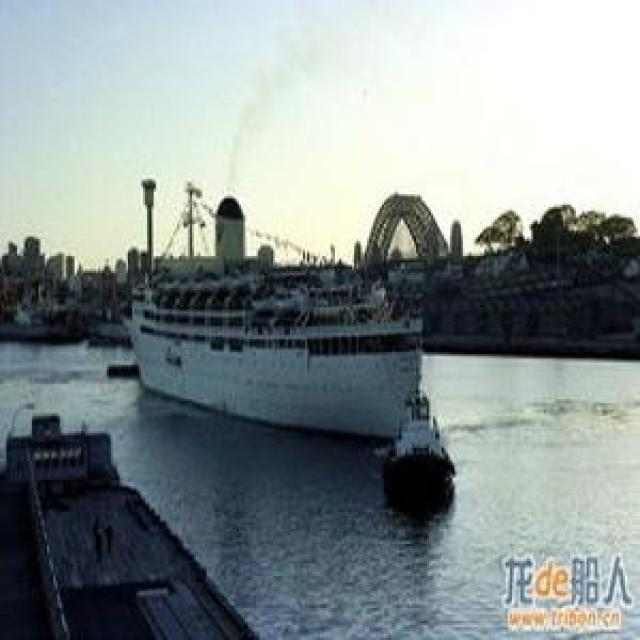passenger ship: (116, 244, 434, 436), (384, 394, 458, 514)
